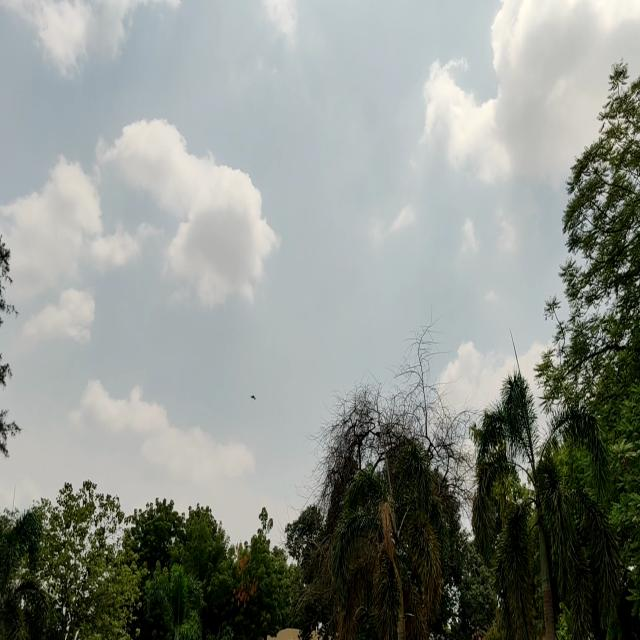drone: (243, 387, 264, 405)
